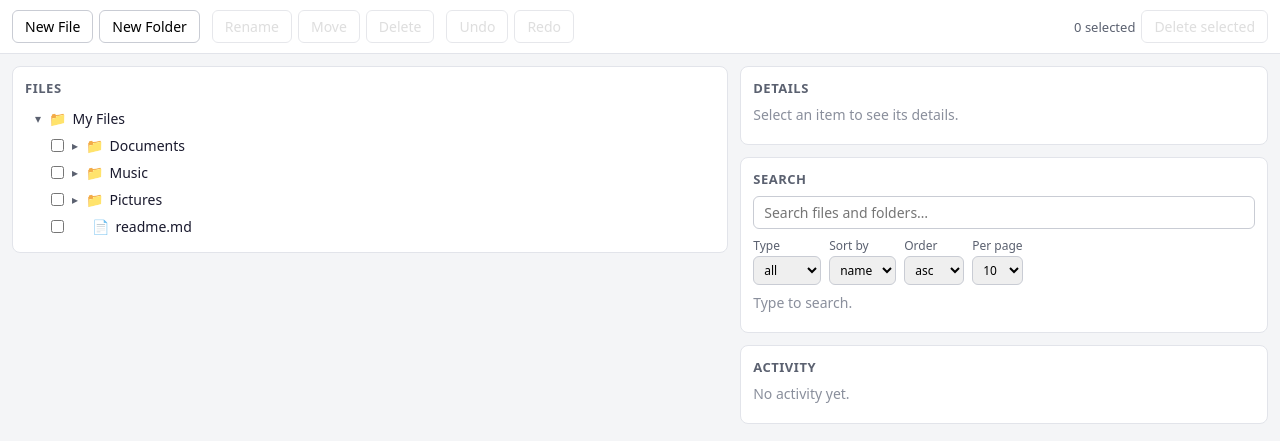
Test: multi-select and bulk delete › checks items and shows the count
Click the 1st checkbox with class "tree-checkbox" at (58, 146), box [51,139,64,152]
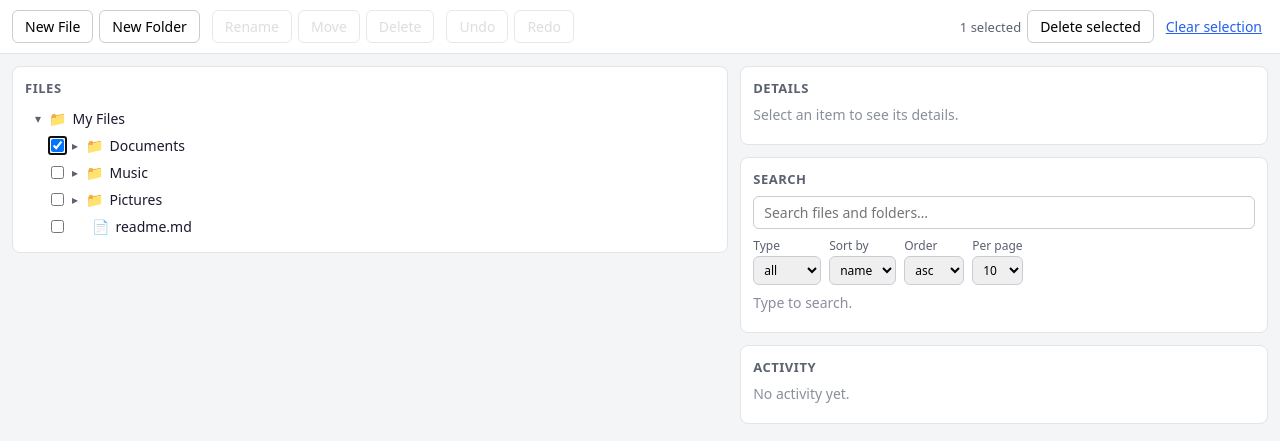
Click the 3rd checkbox with class "tree-checkbox" at (58, 200), box [51,193,64,206]
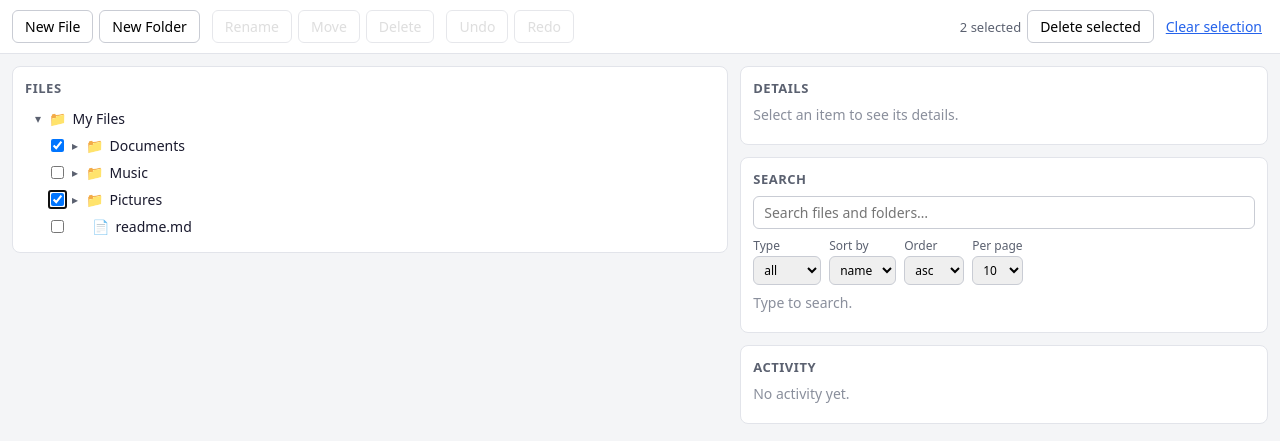
Check: the button with test id "bulk-delete" is enabled, box [1027,10,1154,43]
Check: the text with test id "bulk-count" reads "2 selected", box [960,18,1021,36]
